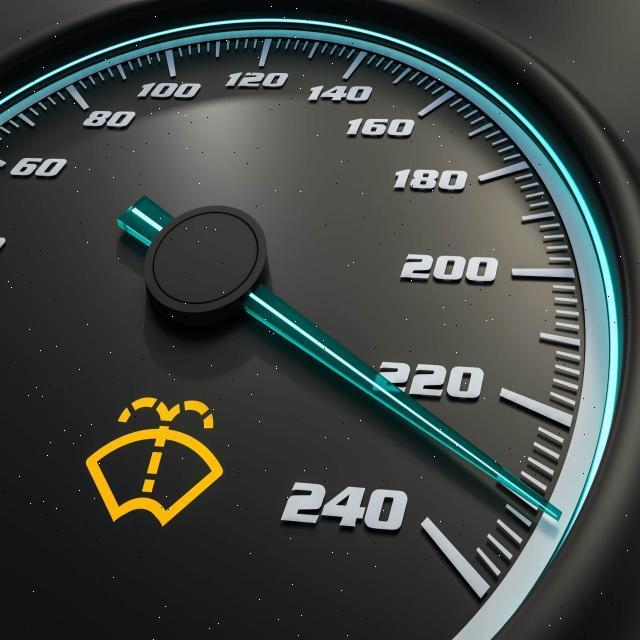Washer Fluid: (84, 394, 225, 528)
